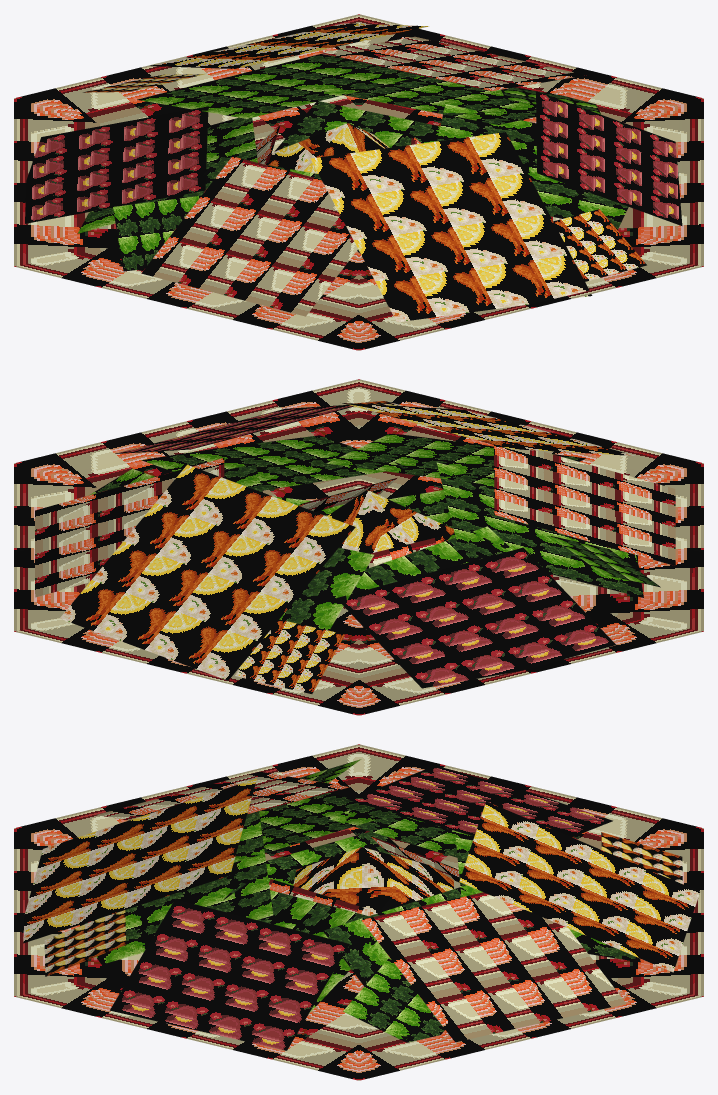
File: 3630dec_party.gltf
3 renders of one model, top to bottom at view 1: azimuth 30°, elevation 25°; view 2: azimuth 150°, elevation 25°; view 3: azimuth 270°, elevation 25°, orthographic.
Parts seen in each view (by area): view 1: 3630dec_party; view 2: 3630dec_party; view 3: 3630dec_party.
Boxes of the visible parts, <box> form: 3630dec_party: <box>14,14,703,350</box>; 3630dec_party: <box>14,379,703,715</box>; 3630dec_party: <box>14,744,703,1080</box>.
Size of the model in its own units: 0.8472 by 0.1277 by 0.7339.
Materials: 4 (4 with a texture image).
